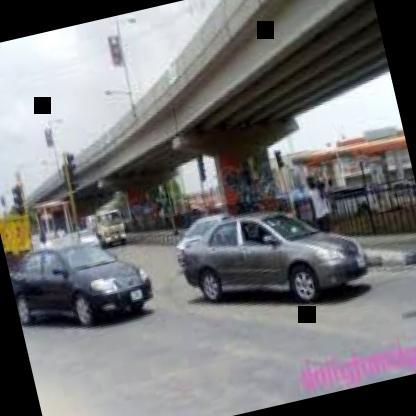car: (167, 157, 386, 351), (3, 205, 166, 359)
